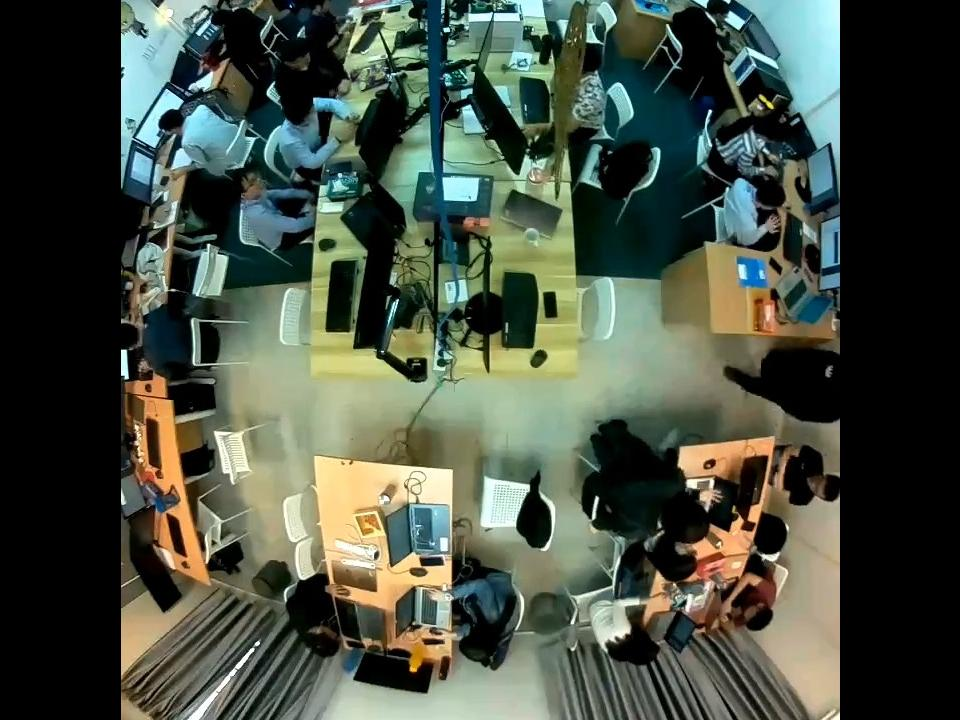name-tag: (822, 364, 834, 380)
